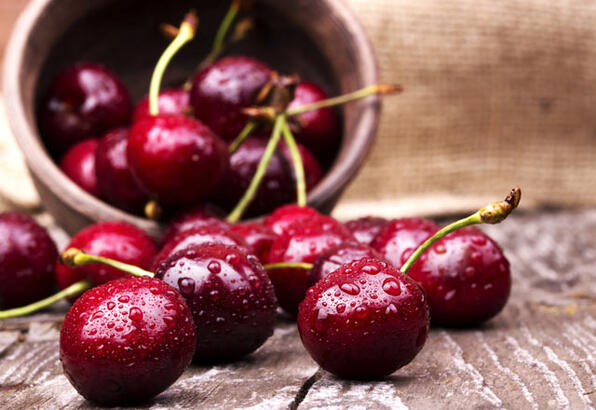Cherry: (152, 240, 283, 370), (298, 260, 429, 387), (58, 280, 187, 406)
